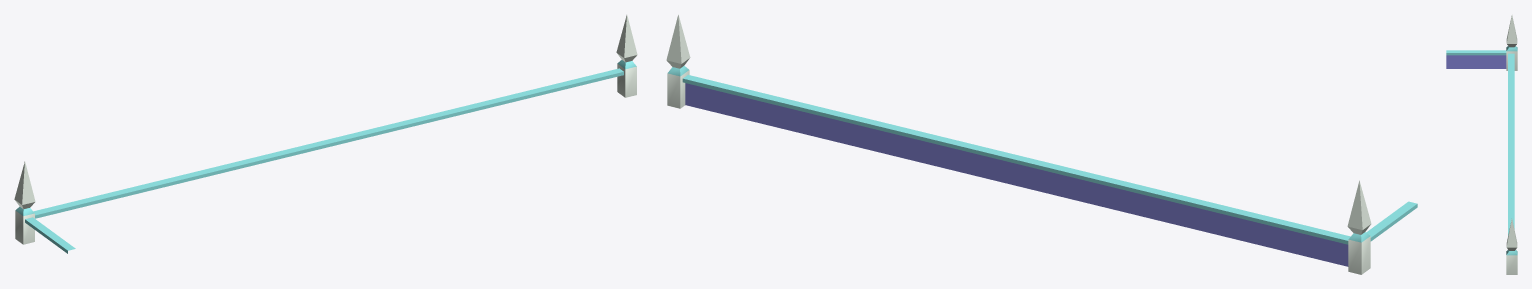
The model's file is bridg_rest_deco02.gltf.
3 renders of one model, left to right at view 1: azimuth 30°, elevation 25°; view 2: azimuth 150°, elevation 25°; view 3: azimuth 270°, elevation 25°, orthographic. The views are drawn at different scales.
Parts seen in each view (by area): view 1: bridg_rest_deco02; view 2: bridg_rest_deco02; view 3: bridg_rest_deco02.
Part boxes in pixels (x1=…): bridg_rest_deco02: x1=14, y1=15, x2=637, y2=253; bridg_rest_deco02: x1=666, y1=14, x2=1417, y2=274; bridg_rest_deco02: x1=1446, y1=15, x2=1517, y2=274.
Bounding box in the file's own units: 7.68 × 0.9476 × 1.11.
